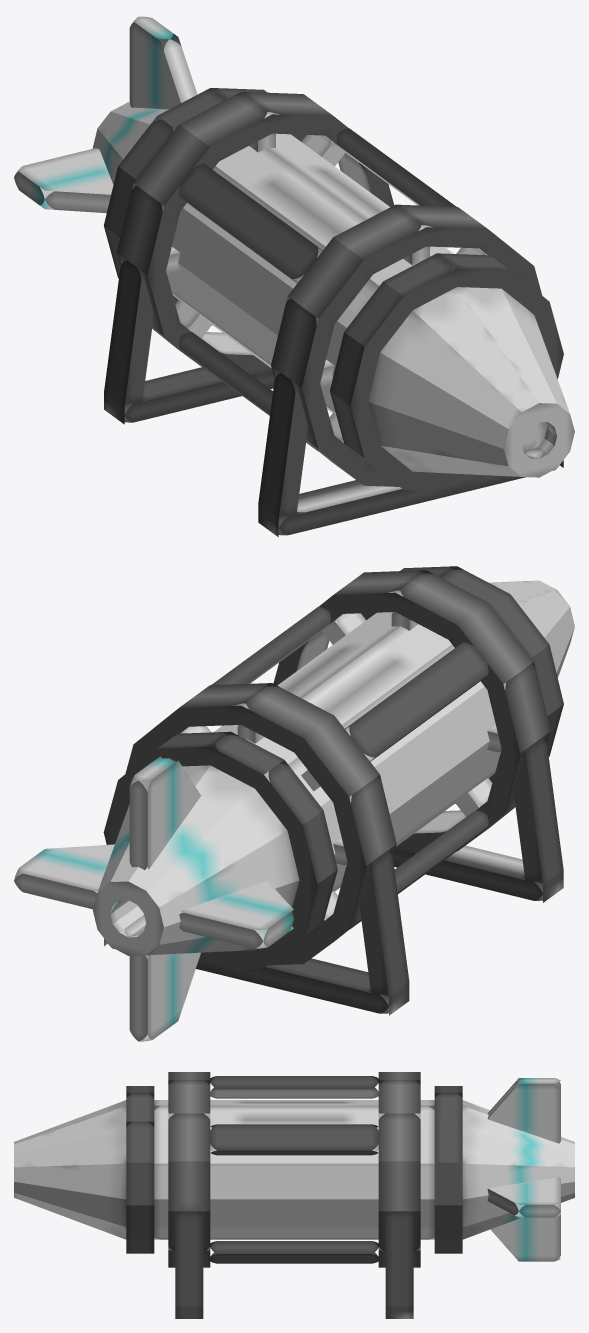
File: fleija.obj
3 renders of one model, top to bottom at view 1: azimuth 30°, elevation 25°; view 2: azimuth 150°, elevation 25°; view 3: azimuth 270°, elevation 25°, orthographic. The views are drawn at different scales.
Parts seen in each view (by area): view 1: Cylinder.001; view 2: Cylinder.001; view 3: Cylinder.001.
Boxes of the visible parts, x1,y1,x2,y2 form: Cylinder.001: (14,16,574,536); Cylinder.001: (14,566,574,1041); Cylinder.001: (14,1072,574,1318).
Bounding box in the file's own units: 1 × 0.9375 × 2.5.
